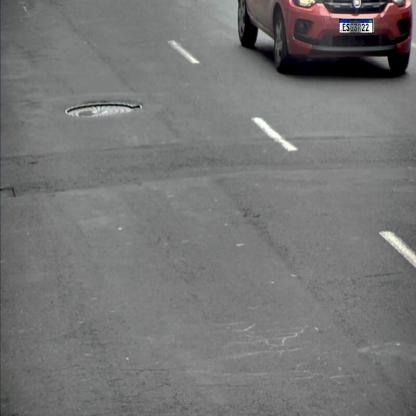PlacaM: (339, 19, 373, 33)
